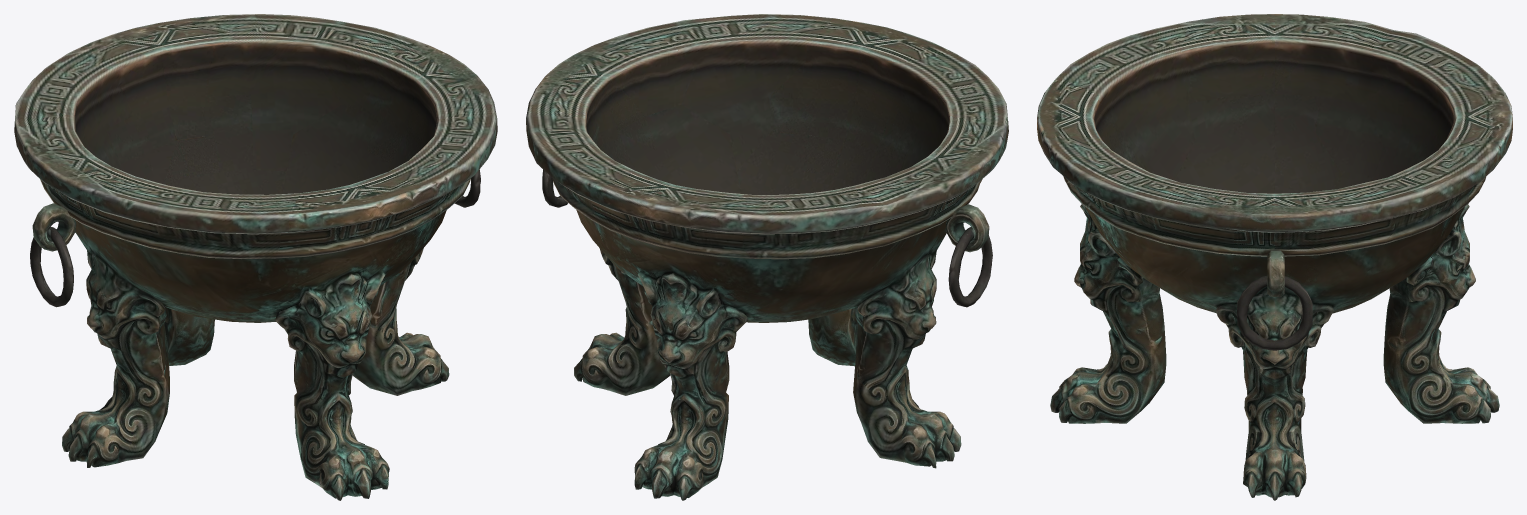
The model's file is cauldron.glb.
The picture shows the model from 3 angles, left to right: view 1: azimuth 30°, elevation 25°; view 2: azimuth 150°, elevation 25°; view 3: azimuth 270°, elevation 25°; orthographic projection.
Bounding box in the file's own units: 0.9502 × 0.6226 × 0.9009.
Materials: 1 (1 with a texture image).
